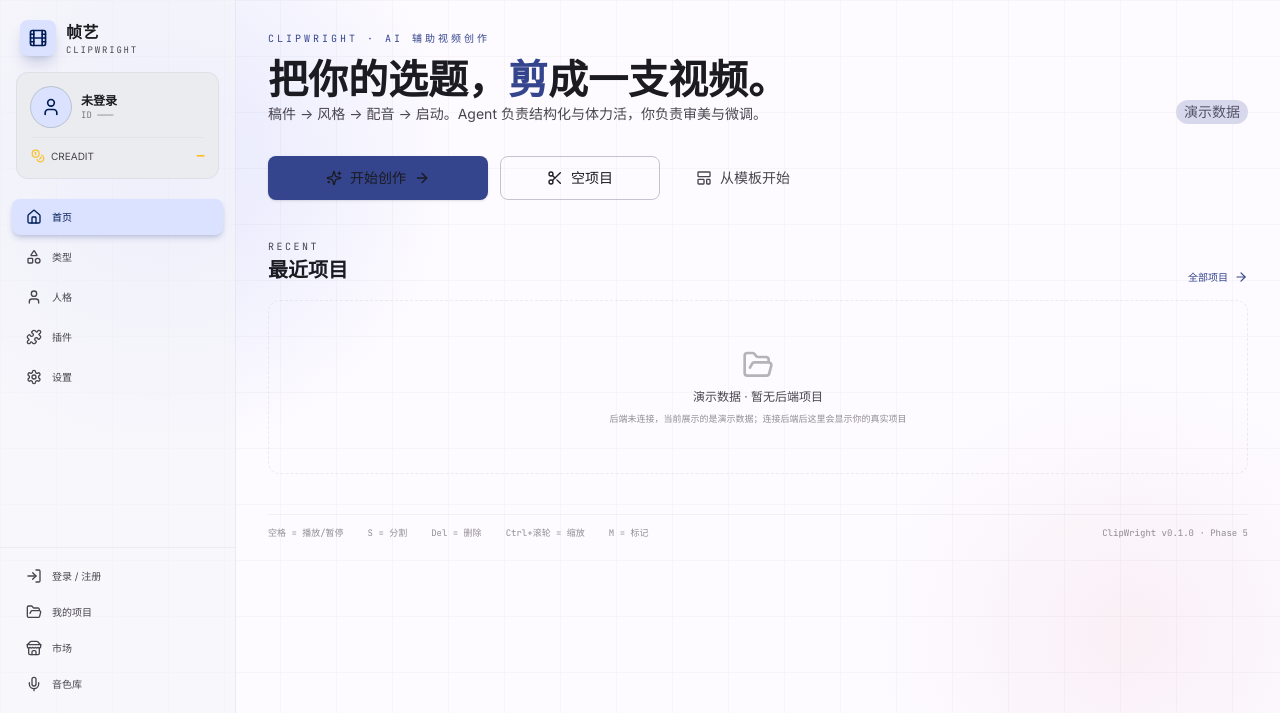
Scenario: 图一：左侧导航切换右侧内容区 › 点击「人格」→ 显示与 /persona 相同的完整人格画廊；点卡片选中并进入创作
Click the button "人格" at (118, 297), box [12,279,223,315]
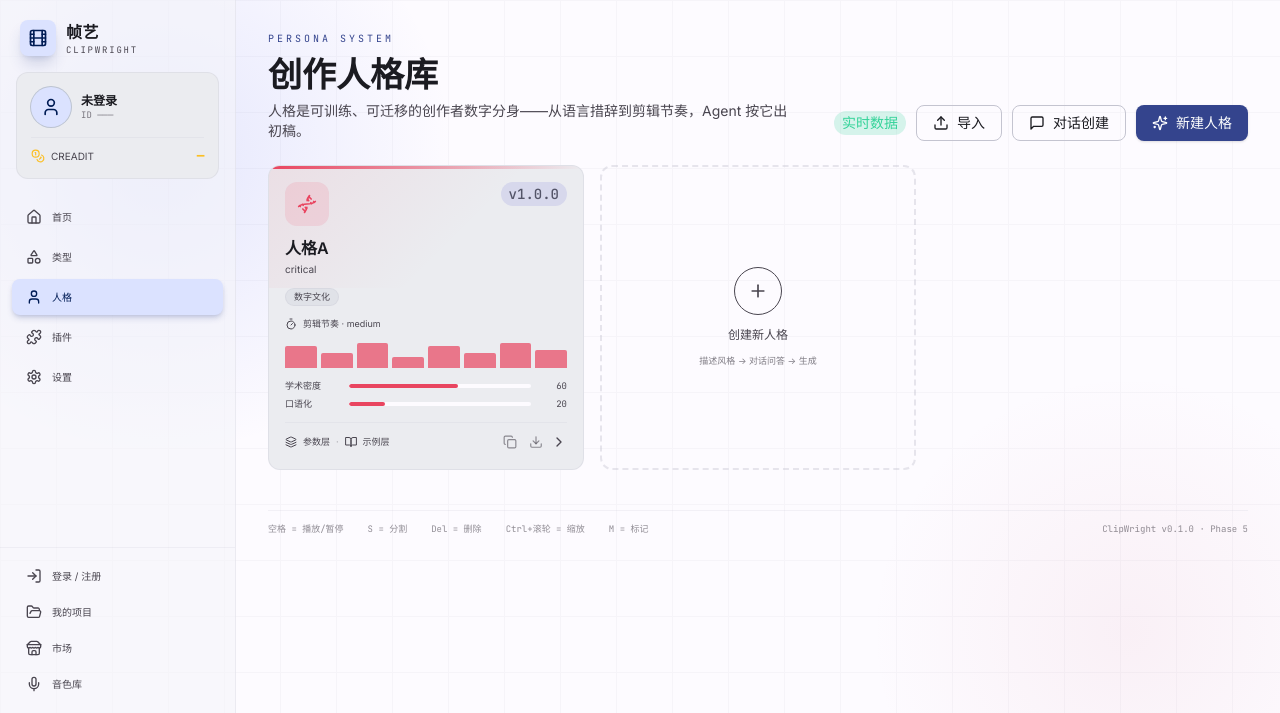
Result: the heading "创作人格库" is shown at [268,48,438,97]
Result: the heading "人格A" is shown
Result: the text "剪辑节奏 · medium" is shown at [285,318,381,330]
# 点击人格卡片 → 选中该人格并切到创作 tab（首页语义）
Click the heading "人格A" at (307, 248), box [285,238,329,258]
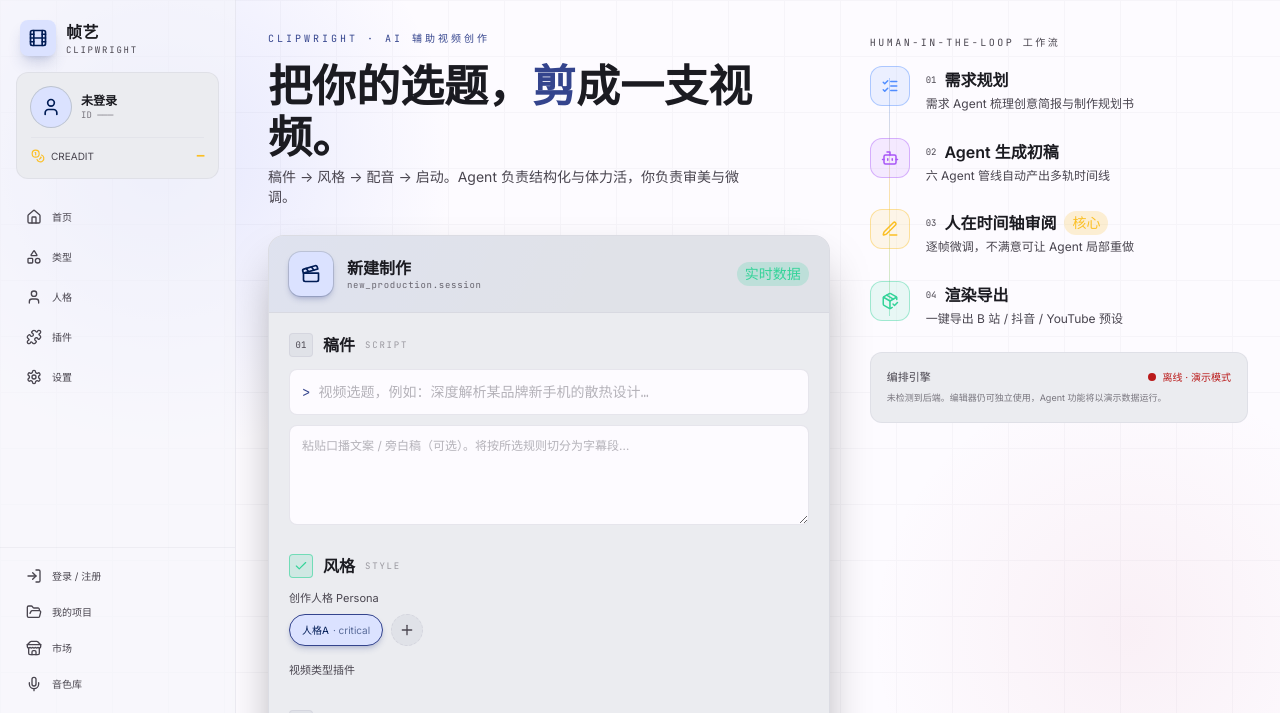
Result: the text box with placeholder "粘贴口播文案 / 旁白稿（可选）。将按所选规则切分为字幕段…" is shown at [289,425,809,525]
